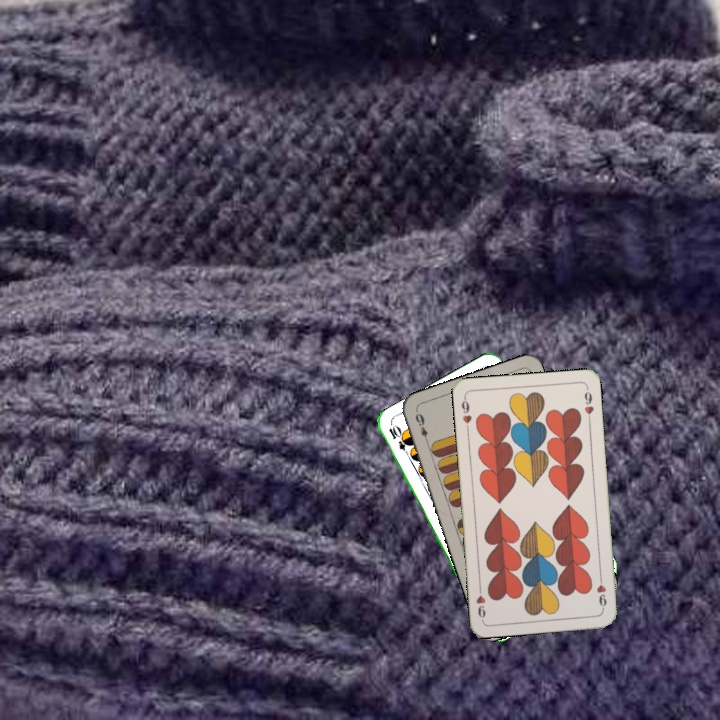E10: (385, 422, 412, 460)
E9: (411, 407, 432, 447)
H9: (457, 393, 474, 433), (593, 572, 609, 612)
